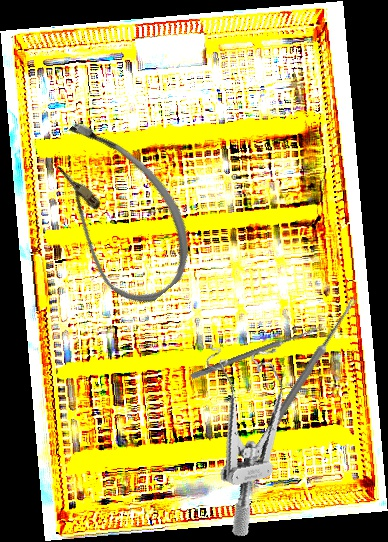Cannula: (15, 104, 217, 319)
Speculum: (189, 329, 317, 539)
Surgical Spoon: (247, 295, 359, 465), (190, 324, 322, 381)
